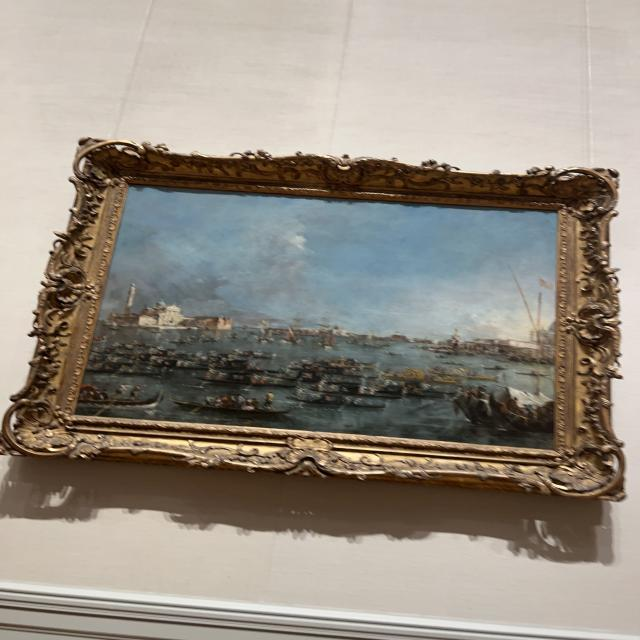ships: (78, 191, 550, 444)
